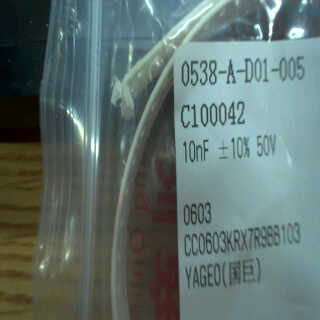10nF: (180, 135, 212, 164)
